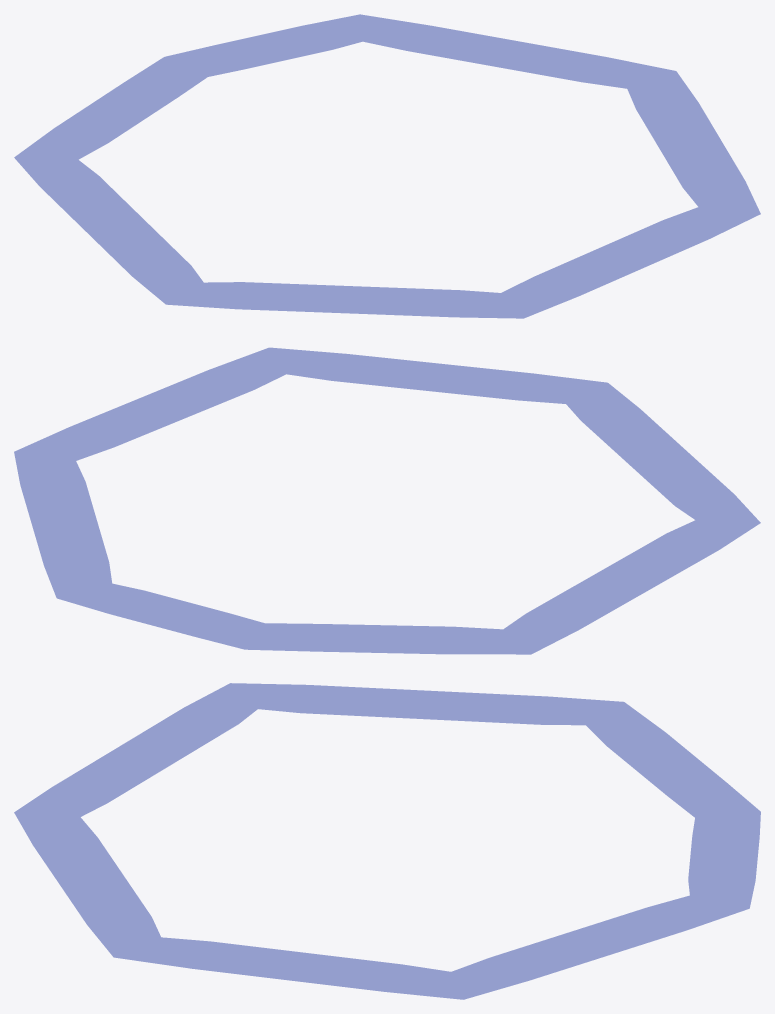
File: small.ring.fbx
3 views of the same model, one above another, from view 1: azimuth 30°, elevation 25°; view 2: azimuth 150°, elevation 25°; view 3: azimuth 270°, elevation 25° (orthographic). The views are drawn at different scales.
Parts seen in each view (by area): view 1: ring.small; view 2: ring.small; view 3: ring.small.
Part boxes in pixels (box(x1,y1,x2,y2)): ring.small: box(14, 14, 760, 318); ring.small: box(14, 347, 760, 654); ring.small: box(14, 683, 760, 999).
Size of the model in its own units: 131 by 4.77e-07 by 130.
